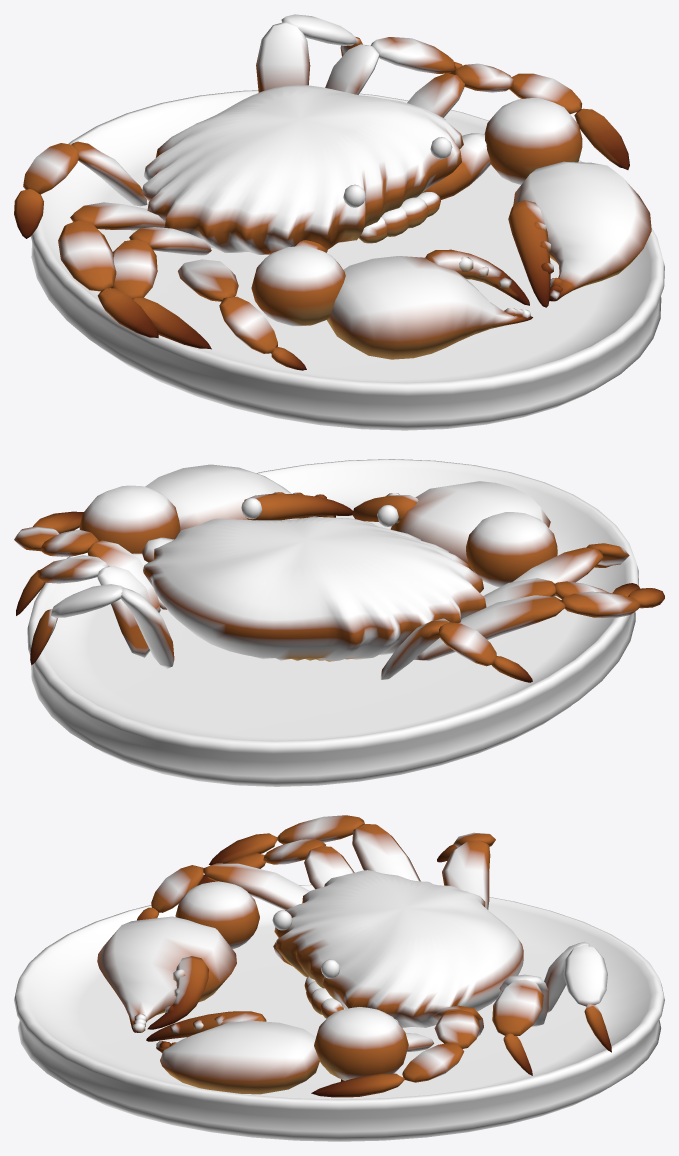
Rendered from SM_crab.fbx.
3 renders of one model, top to bottom at view 1: azimuth 30°, elevation 25°; view 2: azimuth 150°, elevation 25°; view 3: azimuth 270°, elevation 25°, orthographic. The views are drawn at different scales.
Visible parts, largest first — view 1: SM_crab; view 2: SM_crab; view 3: SM_crab.
Boxes of the visible parts, x1,y1,x2,y2 form: SM_crab: (14,14,664,430); SM_crab: (14,459,664,786); SM_crab: (14,815,664,1141).
Size of the model in its own units: 0.1794 by 0.0431 by 0.1999.
